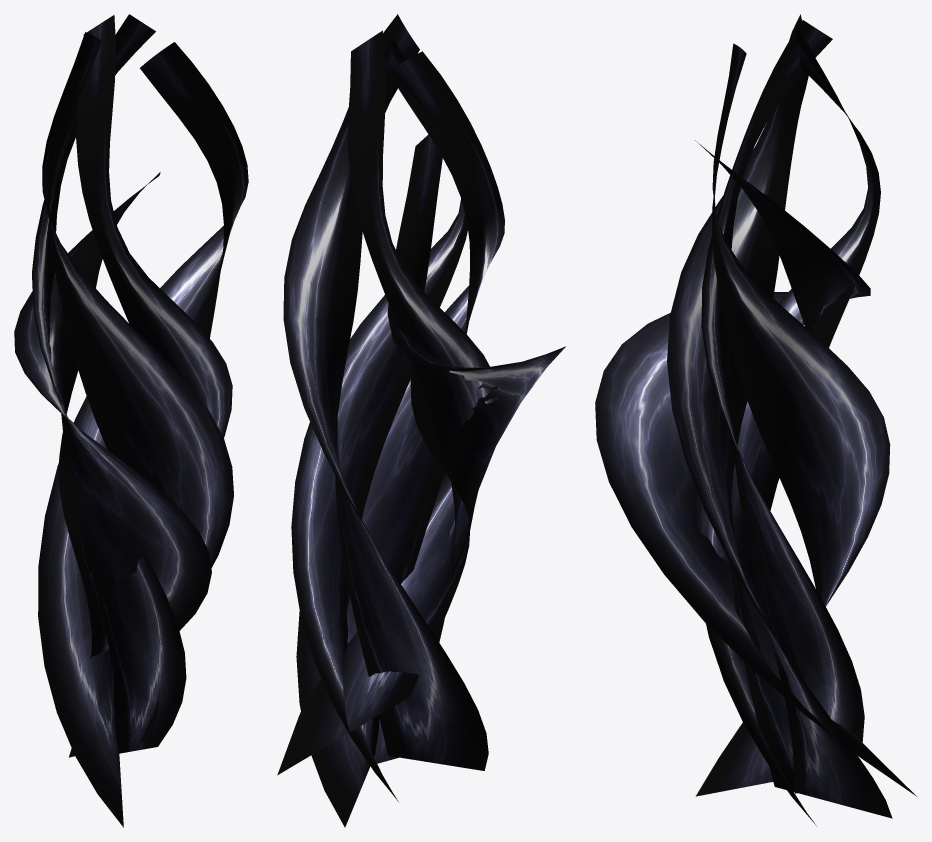
Rendered from fx_leverup_mesh.fbx.
3 renders of one model, left to right at view 1: azimuth 30°, elevation 25°; view 2: azimuth 150°, elevation 25°; view 3: azimuth 270°, elevation 25°, orthographic. The views are drawn at different scales.
Parts seen in each view (by area): view 1: Geoset_001, Geoset_002, Geoset_000; view 2: Geoset_001, Geoset_002, Geoset_000; view 3: Geoset_001, Geoset_002, Geoset_000.
Part boxes in pixels (x1,y1,x2,y2): Geoset_001: [38, 32, 248, 827]; Geoset_002: [32, 14, 232, 757]; Geoset_000: [14, 172, 211, 659]; Geoset_001: [283, 14, 504, 827]; Geoset_002: [291, 30, 499, 801]; Geoset_000: [277, 134, 565, 775]; Geoset_001: [667, 14, 892, 818]; Geoset_002: [695, 20, 880, 825]; Geoset_000: [595, 140, 916, 796].
Bounding box in the file's own units: 401 × 1342 × 492.
